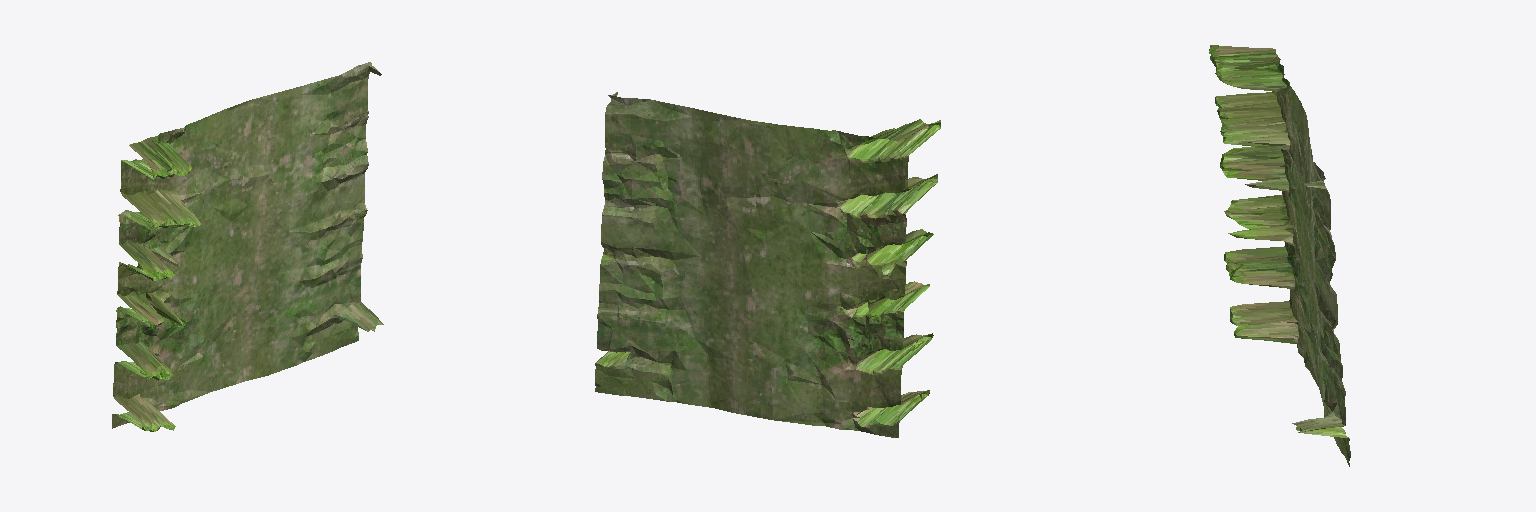
3 renders of one model, left to right at view 1: azimuth 30°, elevation 25°; view 2: azimuth 150°, elevation 25°; view 3: azimuth 270°, elevation 25°, orthographic.
Visible parts, largest first — view 1: grp1; view 2: grp1; view 3: grp1.
Boxes of the visible parts, x1,y1,x2,y2 form: grp1: [112, 62, 383, 431]; grp1: [595, 92, 940, 437]; grp1: [1209, 45, 1350, 466].
Size of the model in its own units: 10 by 10 by 4.47.
1 materials, 1 textured.